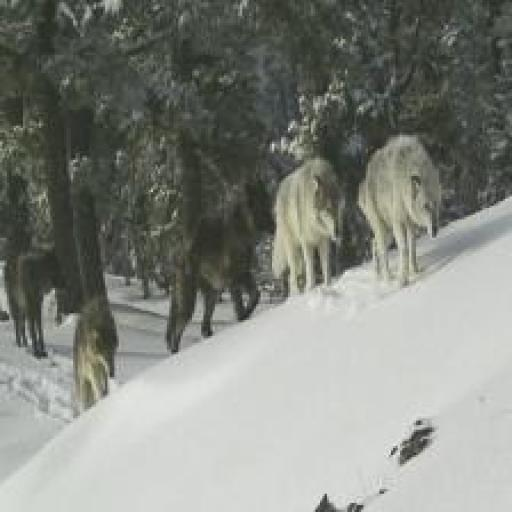wolf: (162, 171, 279, 360), (361, 137, 452, 297), (274, 155, 358, 326), (0, 233, 70, 366), (69, 288, 129, 440)
